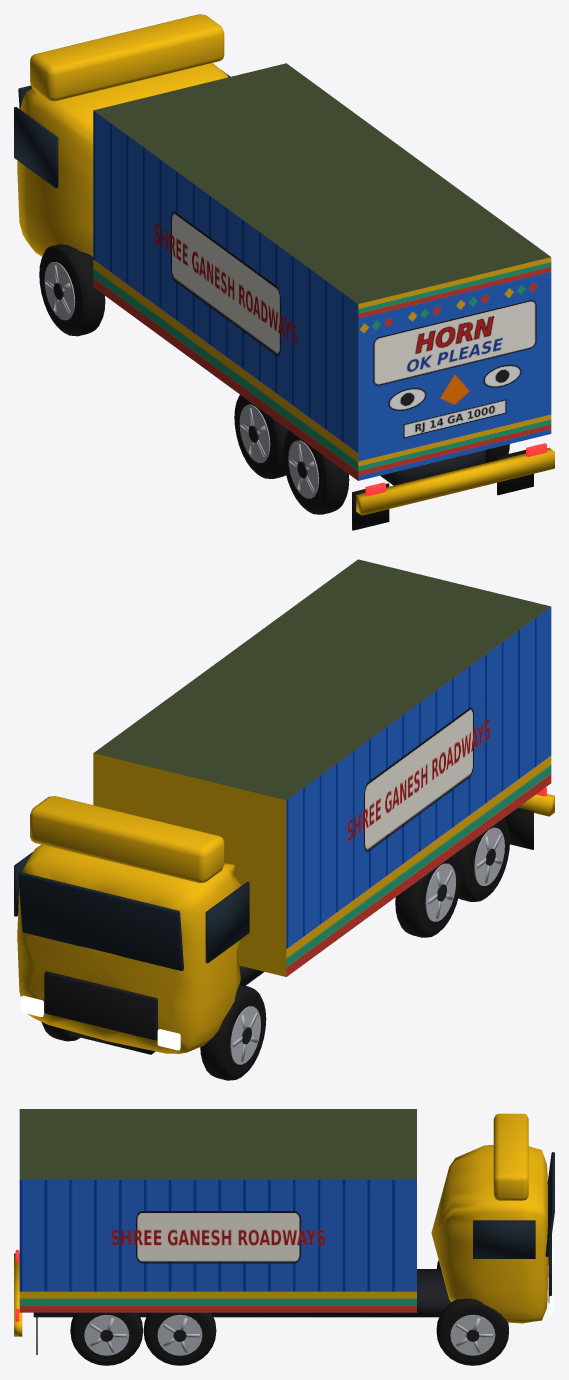
The model's file is truck0.glb.
3 views of the same model, one above another, from view 1: azimuth 30°, elevation 25°; view 2: azimuth 150°, elevation 25°; view 3: azimuth 270°, elevation 25° (orthographic). The views are drawn at different scales.
Parts seen in each view (by area): view 1: cargo, truck_CabPaint, truck_Rubber, truck_BumperYellow, truck_RimSilver, truck_Glass, truck_Trim, truck_Mudflap; view 2: cargo, truck_CabPaint, truck_Glass, truck_Rubber, truck_Trim, truck_RimSilver, truck_Mudflap, truck_HeadLight; view 3: cargo, truck_CabPaint, truck_Rubber, truck_RimSilver, truck_Trim, truck_Glass, truck_BumperYellow.
Boxes of the visible parts, left/top/right/bottom form: cargo: left=93, top=63, right=551, bottom=480; truck_CabPaint: left=17, top=14, right=228, bottom=257; truck_Rubber: left=39, top=244, right=509, bottom=514; truck_BumperYellow: left=356, top=447, right=554, bottom=515; truck_RimSilver: left=44, top=262, right=318, bottom=498; truck_Glass: left=14, top=71, right=230, bottom=188; truck_Trim: left=53, top=283, right=485, bottom=485; truck_Mudflap: left=352, top=450, right=533, bottom=530; cargo: left=93, top=559, right=551, bottom=976; truck_CabPaint: left=17, top=796, right=240, bottom=1053; truck_Glass: left=14, top=852, right=249, bottom=970; truck_Rubber: left=41, top=817, right=509, bottom=1080; truck_Trim: left=44, top=848, right=495, bottom=1054; truck_RimSilver: left=230, top=827, right=504, bottom=1064; truck_Mudflap: left=504, top=807, right=533, bottom=849; truck_HeadLight: left=21, top=995, right=180, bottom=1050; cargo: left=19, top=1109, right=416, bottom=1312; truck_CabPaint: left=431, top=1113, right=548, bottom=1323; truck_Rubber: left=70, top=1260, right=508, bottom=1365; truck_RimSilver: left=84, top=1314, right=495, bottom=1355; truck_Trim: left=33, top=1235, right=551, bottom=1341; truck_Glass: left=473, top=1152, right=554, bottom=1258; truck_BumperYellow: left=14, top=1253, right=22, bottom=1336.
Size of the model in its own units: 2.41 by 3.01 by 7.76.
Materials: 12 (2 with a texture image).
